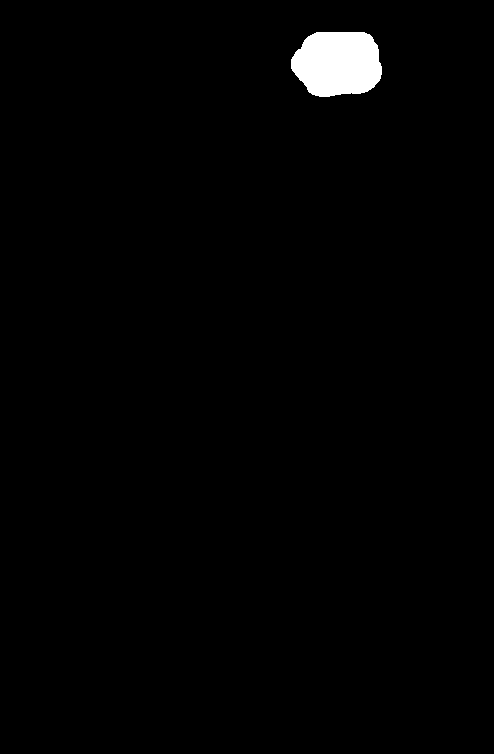veins_detect: (275, 28, 398, 111)
veins_seg: (291, 33, 381, 97)
